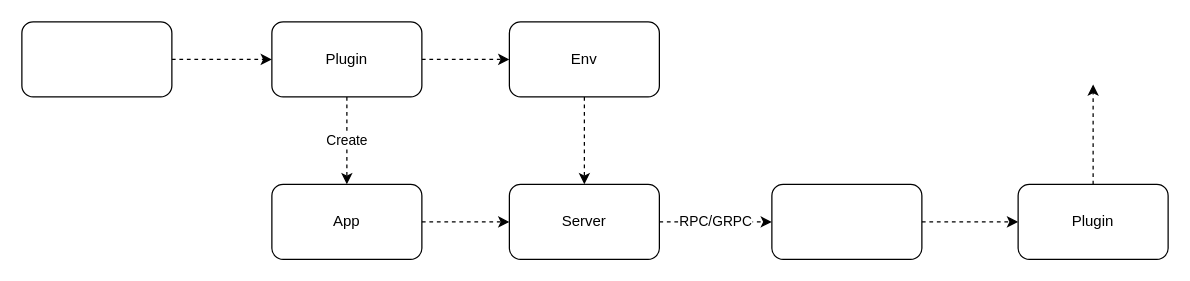
Some shapes in this 1190 by 281 pixel diagram are drawn without their labels. Here are the shapes that lost their labels. From the top down, the centre of each, then its label:
(x=96, y=59): Client
(x=846, y=221): Command [String]
